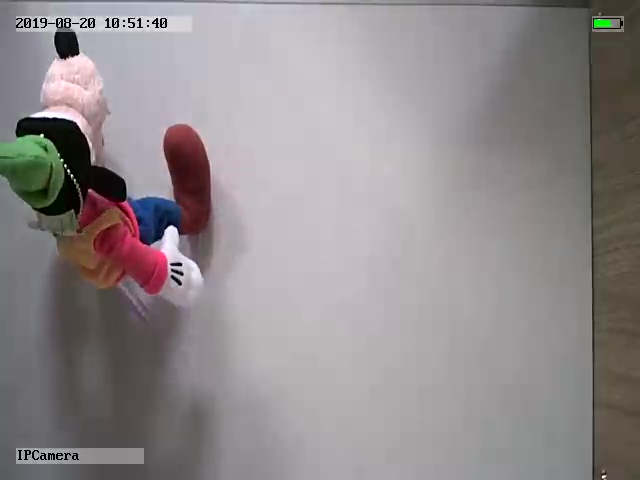goofy: (1, 26, 212, 309)
